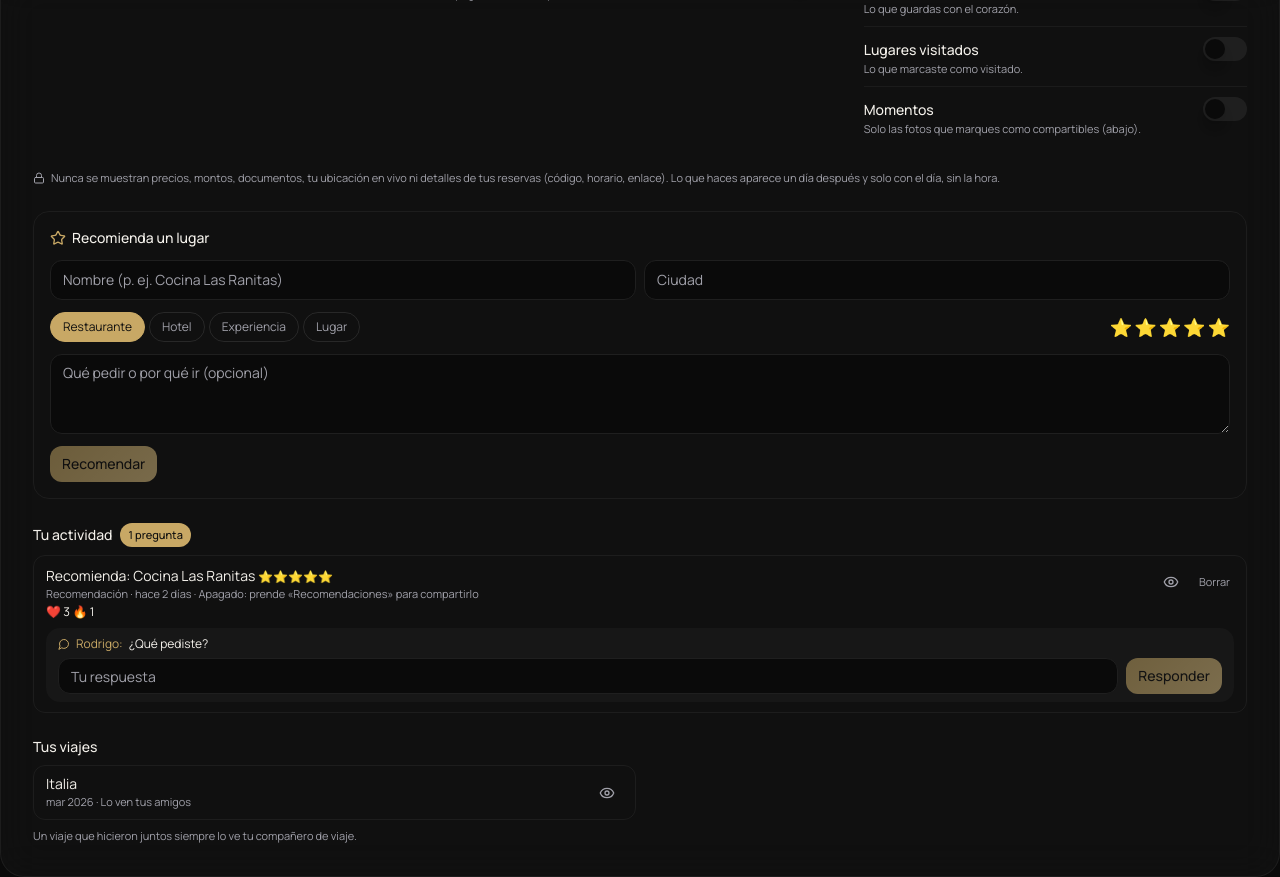
Qué ven mis amigos (perfil propio) › esconder una actividad llama a ocultar_social
The width and height of the screenshot is (1280, 877).
(page scrolled)
Click the button named "Esconder Cocina Las Ranitas". click: (1171,582)
box: top-left (1155, 566), bottom-right (1187, 598)
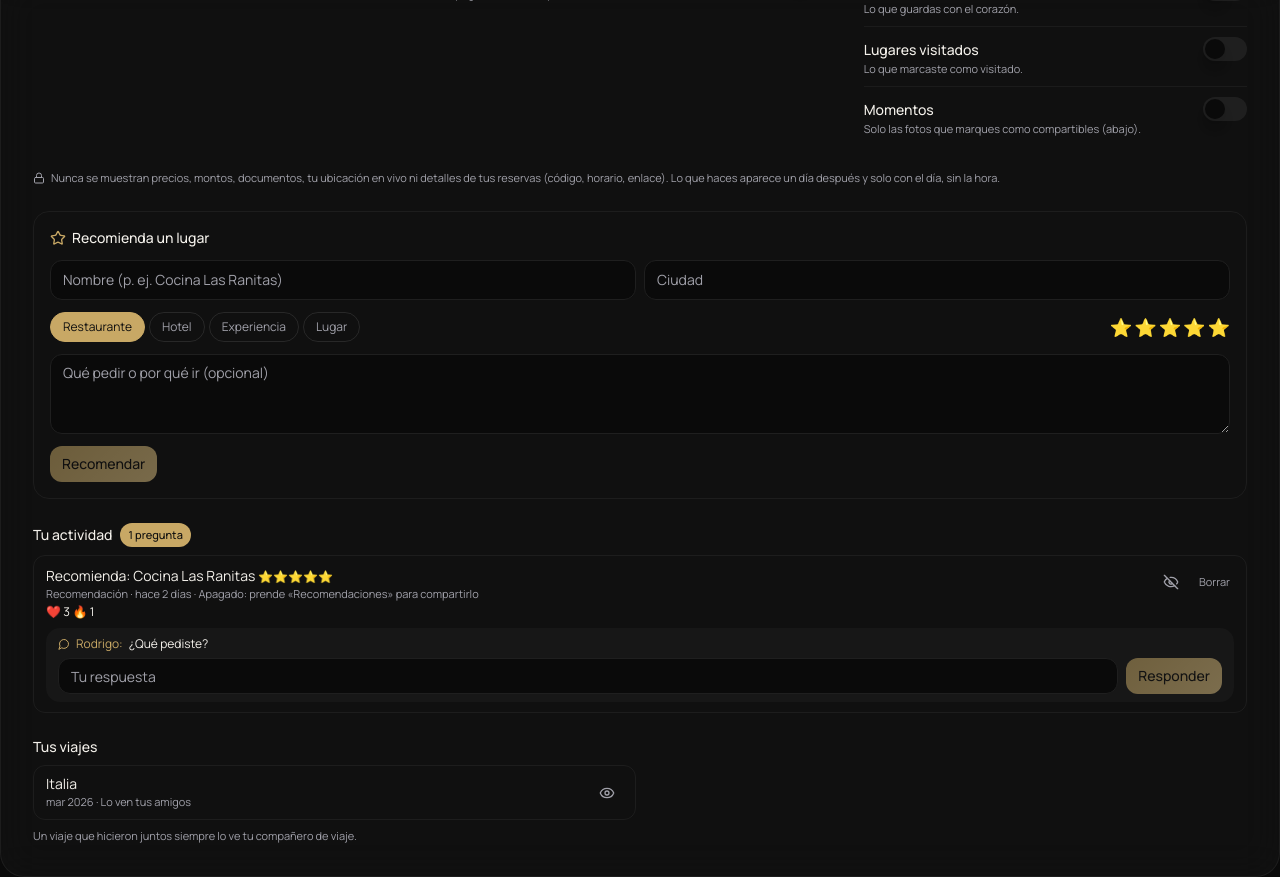
Result: the button named "Mostrar Cocina Las Ranitas" is shown at top-left (1155, 566), bottom-right (1187, 598)
